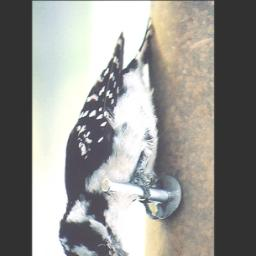Woodpecker: (58, 16, 165, 256)
